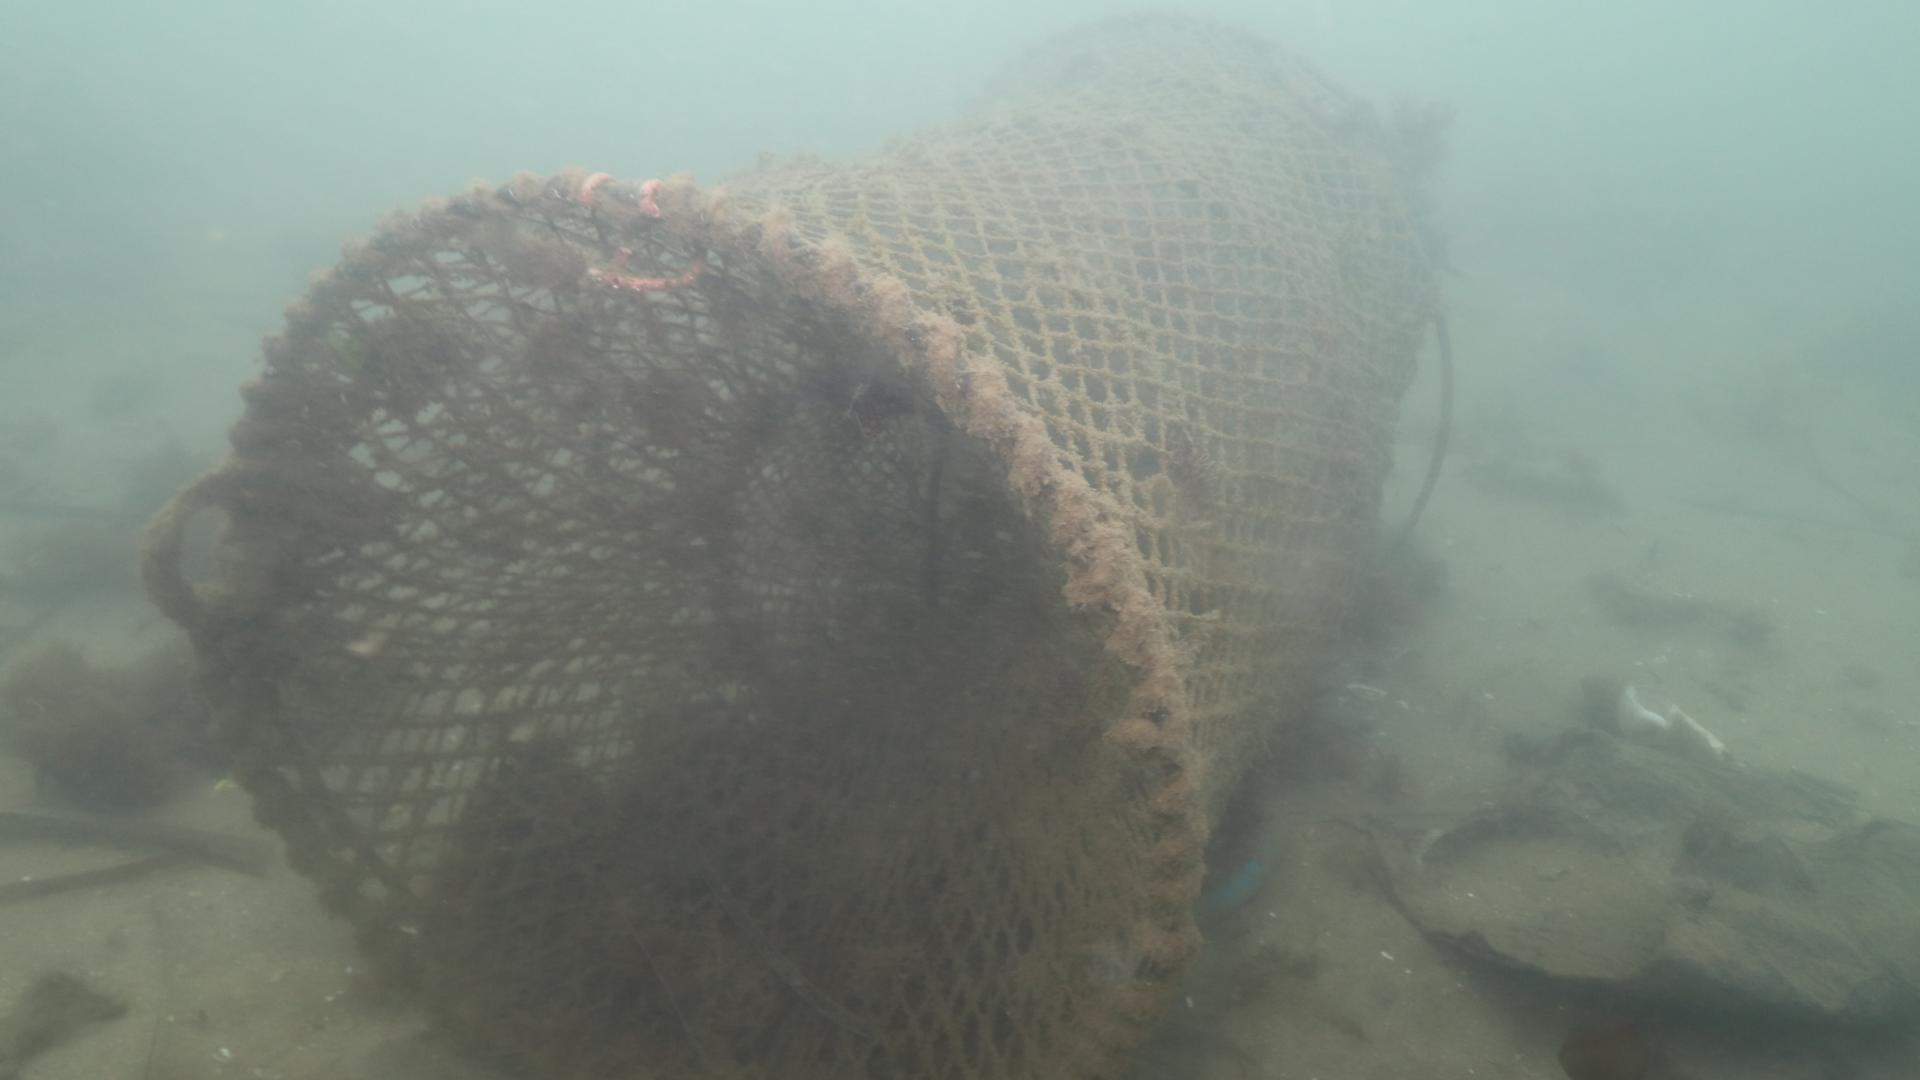spring fish trap: (190, 12, 1447, 1080)
